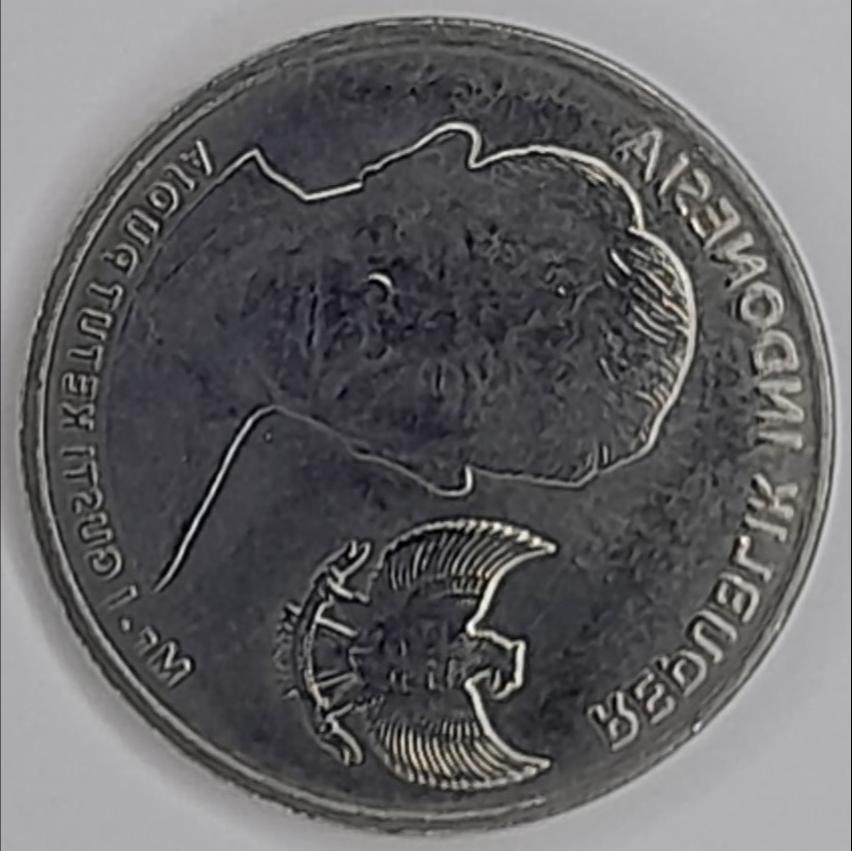coin_1000_e2016: (15, 17, 841, 851)
